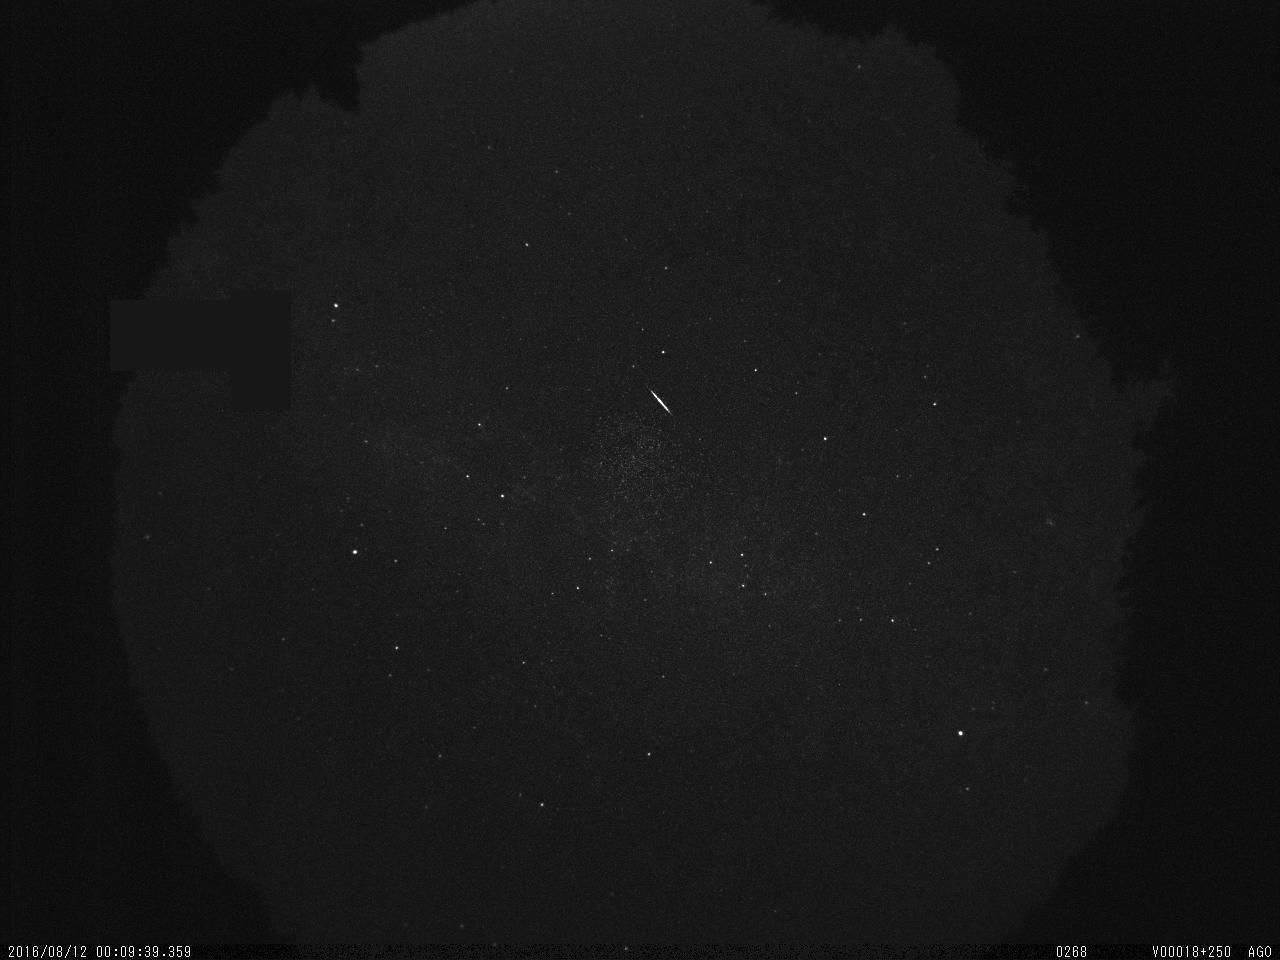Meteor: (647, 384, 676, 418)
